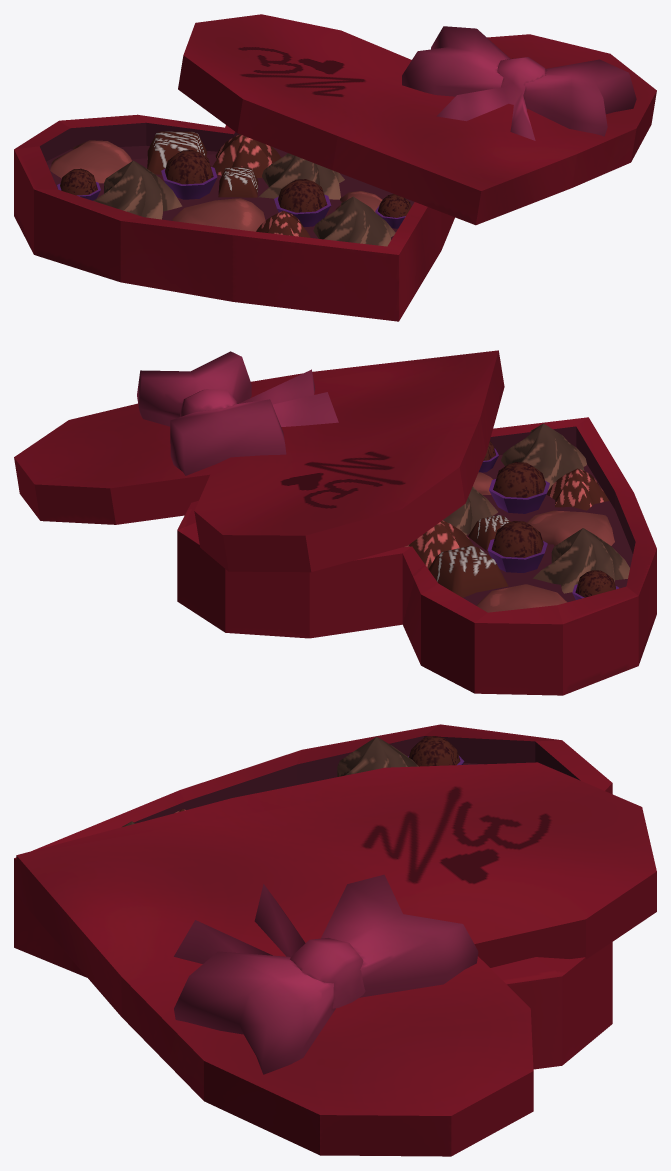
File: ChocolateBox 1.fbx
3 renders of one model, top to bottom at view 1: azimuth 30°, elevation 25°; view 2: azimuth 150°, elevation 25°; view 3: azimuth 270°, elevation 25°, orthographic. The views are drawn at different scales.
Parts seen in each view (by area): view 1: ChocolateBox; view 2: ChocolateBox; view 3: ChocolateBox.
Part boxes in pixels (bbox=[...]): ChocolateBox: bbox=[14, 14, 656, 321]; ChocolateBox: bbox=[14, 350, 656, 695]; ChocolateBox: bbox=[14, 724, 656, 1156].
Size of the model in its own units: 74.84 by 16.28 by 53.55.
